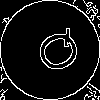Q: (25, 25, 86, 81)
